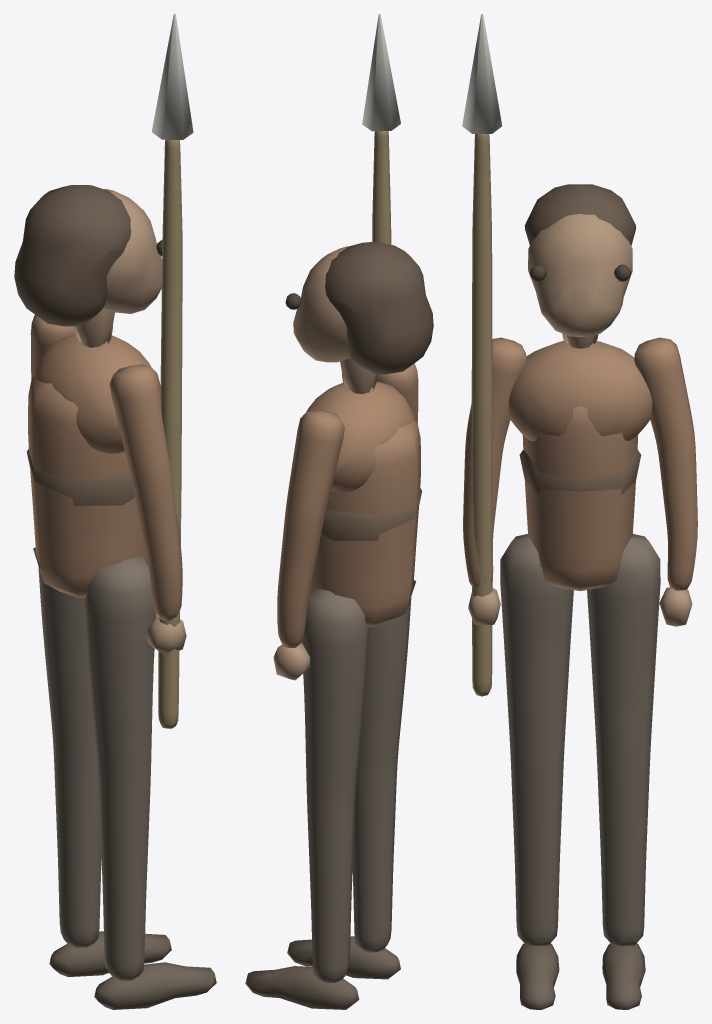
Rendered from human.glb.
3 renders of one model, left to right at view 1: azimuth 30°, elevation 25°; view 2: azimuth 150°, elevation 25°; view 3: azimuth 270°, elevation 25°, orthographic. The views are drawn at different scales.
Visible parts, largest first — view 1: legmR, legmL, bodym, hairm, armmR, spearm, chestm, headm, footmR, tipm, beltm, footmL (+3 smaller); view 2: legmL, legmR, bodym, hairm, armmL, chestm, headm, footmL, tipm, beltm, footmR, spearm (+3 smaller); view 3: legmL, legmR, bodym, chestm, spearm, headm, armmL, armmR, hairm, tipm, footmR, footmL (+3 smaller).
Part boxes in pixels (x1=…): legmR: x1=83, y1=556, x2=156, y2=980; legmL: x1=38, y1=567, x2=101, y2=947; bodym: x1=28, y1=375, x2=148, y2=597; hairm: x1=14, y1=185, x2=131, y2=326; armmR: x1=109, y1=364, x2=182, y2=620; spearm: x1=158, y1=139, x2=182, y2=728; chestm: x1=35, y1=334, x2=150, y2=453; headm: x1=103, y1=189, x2=161, y2=313; footmR: x1=94, y1=962, x2=216, y2=1009; tipm: x1=151, y1=14, x2=193, y2=139; beltm: x1=26, y1=449, x2=134, y2=568; footmL: x1=49, y1=931, x2=171, y2=976; legmL: x1=301, y1=588, x2=369, y2=982; legmR: x1=352, y1=597, x2=411, y2=952; bodym: x1=309, y1=420, x2=420, y2=626; hairm: x1=325, y1=242, x2=433, y2=374; armmL: x1=277, y1=409, x2=344, y2=647; chestm: x1=306, y1=381, x2=414, y2=492; headm: x1=293, y1=246, x2=350, y2=362; footmL: x1=245, y1=966, x2=359, y2=1009; tipm: x1=362, y1=14, x2=400, y2=131; beltm: x1=321, y1=488, x2=422, y2=599; footmR: x1=287, y1=936, x2=400, y2=979; spearm: x1=372, y1=131, x2=391, y2=244; legmL: x1=587, y1=534, x2=660, y2=945; legmR: x1=500, y1=534, x2=573, y2=945; bodym: x1=522, y1=406, x2=637, y2=590; chestm: x1=508, y1=340, x2=652, y2=440; spearm: x1=471, y1=134, x2=492, y2=696; headm: x1=528, y1=214, x2=632, y2=336; armmL: x1=634, y1=337, x2=697, y2=590; armmR: x1=463, y1=337, x2=526, y2=587; hairm: x1=524, y1=184, x2=636, y2=245; tipm: x1=462, y1=14, x2=502, y2=133; footmR: x1=516, y1=943, x2=559, y2=1009; footmL: x1=602, y1=943, x2=645, y2=1009.
Bounding box in the file's own units: 0.39 × 2.24 × 0.4921.
